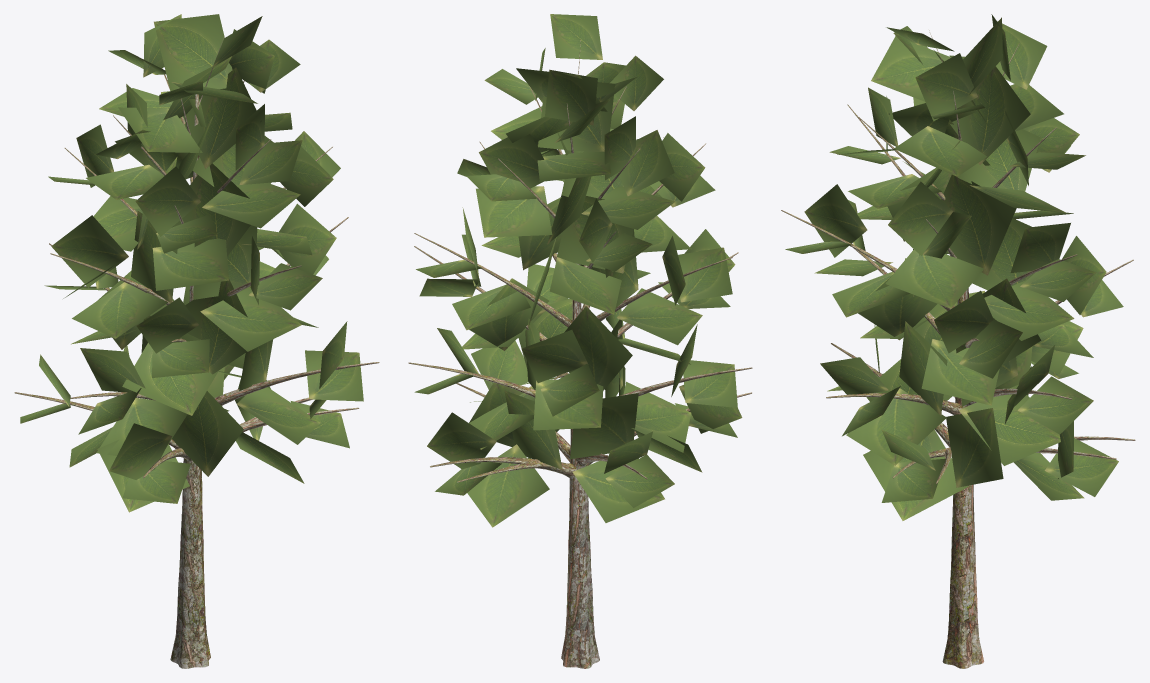
File: tree2.fbx
3 renders of one model, left to right at view 1: azimuth 30°, elevation 25°; view 2: azimuth 150°, elevation 25°; view 3: azimuth 270°, elevation 25°, orthographic. The views are drawn at different scales.
Visible parts, largest first — view 1: Tree_1, Tree_0; view 2: Tree_1, Tree_0; view 3: Tree_1, Tree_0.
Boxes of the visible parts, x1,y1,x2,y2 form: Tree_1: (20,14,363,512); Tree_0: (14,36,379,668); Tree_1: (414,14,742,527); Tree_0: (408,39,752,668); Tree_1: (785,14,1123,520); Tree_0: (781,30,1135,668).
Size of the model in its own units: 58.02 by 114 by 56.07.
Materials: 2 (2 with a texture image).
